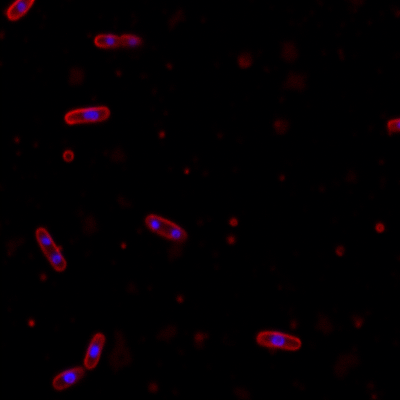CAM: (34, 225, 68, 273), (143, 211, 188, 244), (255, 327, 303, 352), (82, 330, 107, 371), (65, 105, 111, 124), (51, 366, 85, 390)
Oblique: (93, 29, 147, 50)
Vesicle: (60, 148, 76, 164), (332, 242, 344, 256), (224, 234, 237, 246), (180, 166, 192, 178), (374, 222, 386, 234), (227, 214, 238, 227), (25, 318, 37, 329), (118, 241, 129, 253), (175, 294, 185, 304), (155, 129, 166, 138)
